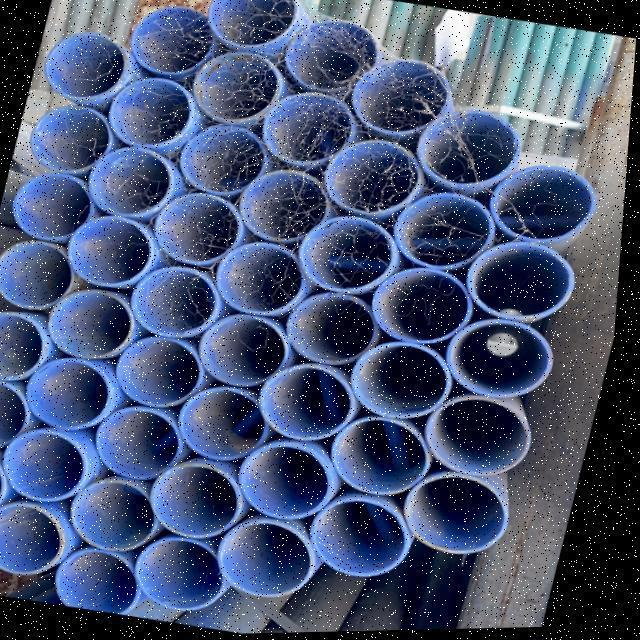pipe: (417, 98, 518, 188), (410, 472, 515, 554), (431, 396, 539, 475), (470, 240, 574, 321), (495, 162, 597, 244), (336, 415, 438, 494), (282, 9, 375, 95), (318, 497, 420, 575), (327, 137, 427, 216), (142, 526, 236, 610), (225, 515, 321, 597), (454, 321, 558, 396), (352, 53, 450, 132), (376, 270, 476, 346), (358, 342, 458, 418), (266, 360, 362, 439), (247, 437, 339, 518), (303, 215, 401, 291), (157, 459, 252, 537), (400, 191, 495, 268), (264, 90, 357, 163), (76, 471, 164, 548), (295, 290, 385, 365), (240, 167, 332, 240), (202, 313, 291, 388), (28, 352, 117, 427), (185, 385, 274, 459), (153, 189, 242, 263), (118, 332, 207, 405), (222, 239, 308, 314), (194, 47, 282, 120), (103, 402, 187, 478), (51, 284, 136, 359), (63, 542, 149, 616), (137, 262, 222, 336), (67, 215, 155, 285), (11, 424, 93, 499), (180, 123, 269, 190), (89, 143, 174, 213), (131, 4, 217, 73), (108, 77, 192, 146), (43, 32, 126, 99), (32, 104, 113, 171), (14, 172, 96, 238), (0, 238, 75, 306), (0, 501, 68, 572), (206, 0, 298, 45), (0, 308, 49, 377), (0, 374, 33, 447), (0, 453, 12, 507)
